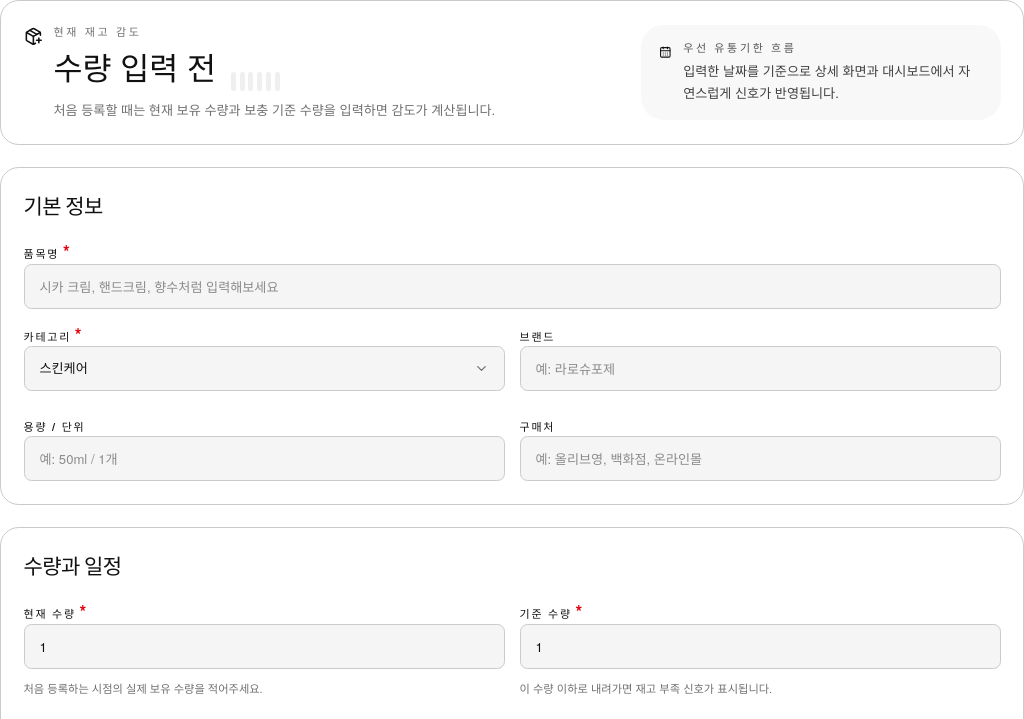
Test: ItemFormPage › prevents submitting when a quantity field is cleared
Type "핸드크림" into the field with placeholder "시카 크림, 핸드크림, 향수처럼 입력해보세요" at {"x": 512, "y": 286}, box [24, 264, 1000, 308]
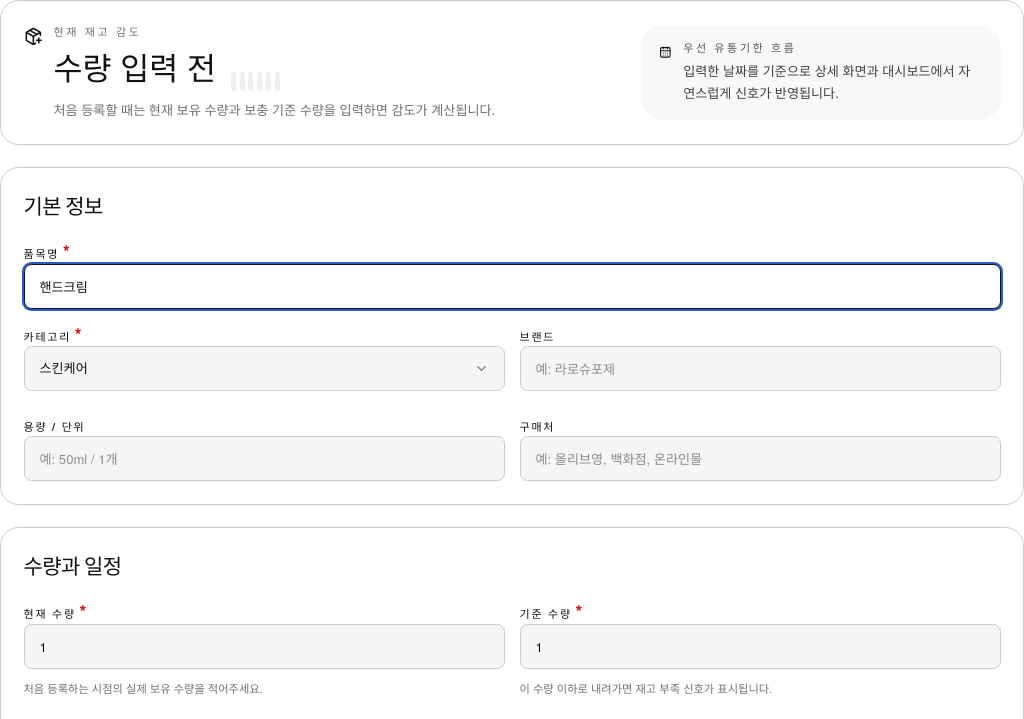
Clear the number field labelled "현재 수량* 처음 등록하는 시점의 실제 보유 수량을 적어주세요." at {"x": 264, "y": 646}, box [24, 624, 504, 668]
(page scrolled)
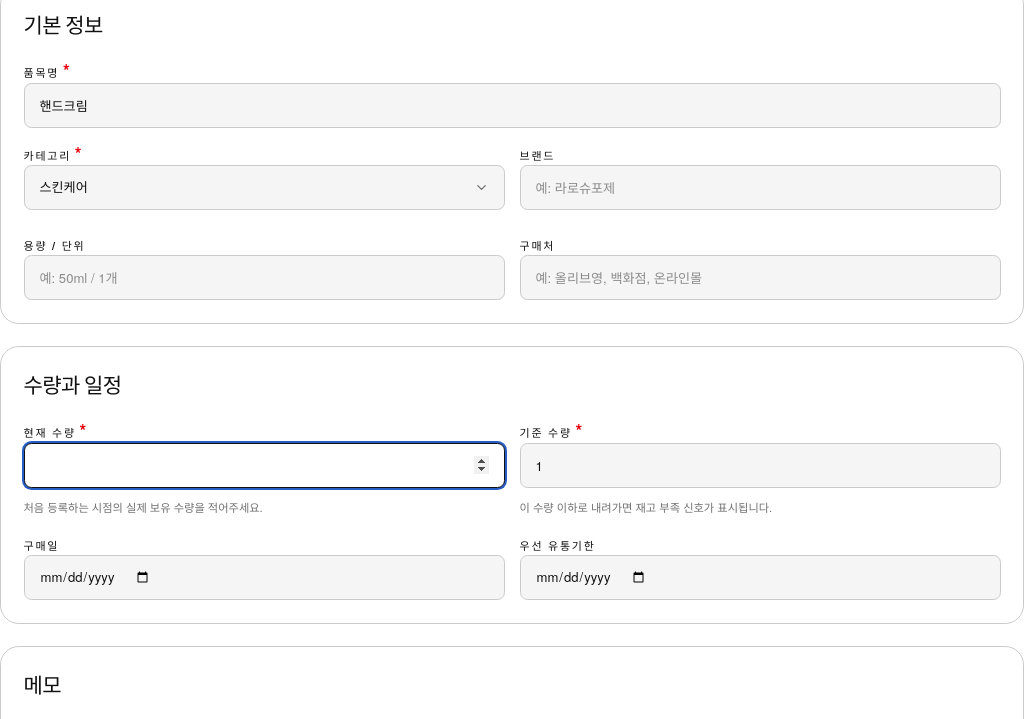
Submit the form
(page scrolled)
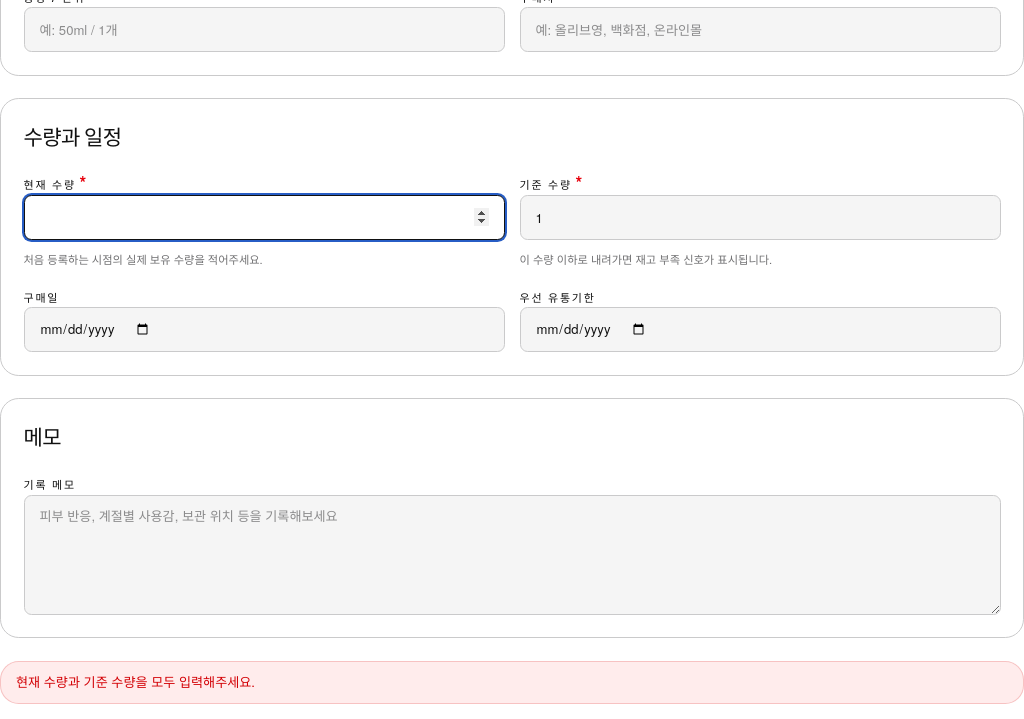
Now the text "현재 수량과 기준 수량을 모두 입력해주세요." is shown, box [0, 660, 1023, 704]
